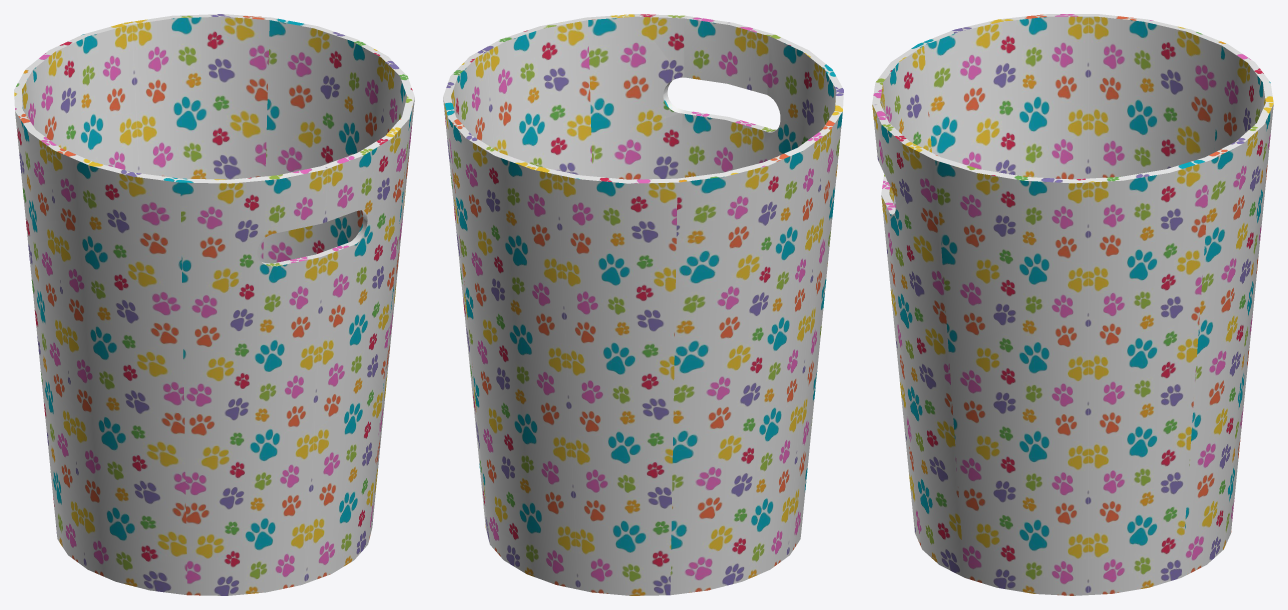
File: Paper bin.fbx
3 renders of one model, left to right at view 1: azimuth 30°, elevation 25°; view 2: azimuth 150°, elevation 25°; view 3: azimuth 270°, elevation 25°, orthographic.
Parts seen in each view (by area): view 1: Paper bin; view 2: Paper bin; view 3: Paper bin.
Boxes of the visible parts, x1,y1,x2,y2 form: Paper bin: [14, 14, 414, 595]; Paper bin: [443, 14, 843, 595]; Paper bin: [872, 14, 1273, 595].
Bounding box in the file's own units: 25.3 × 30.04 × 25.35.
1 material, 1 textured.
